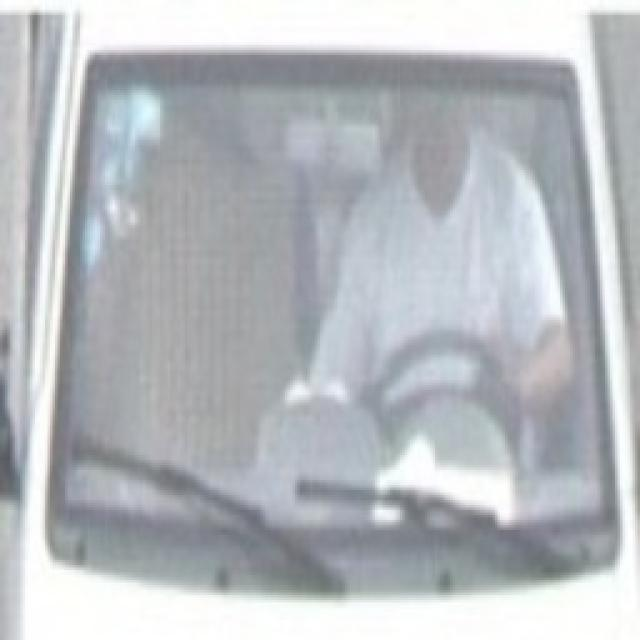windshield: (41, 42, 614, 588)
